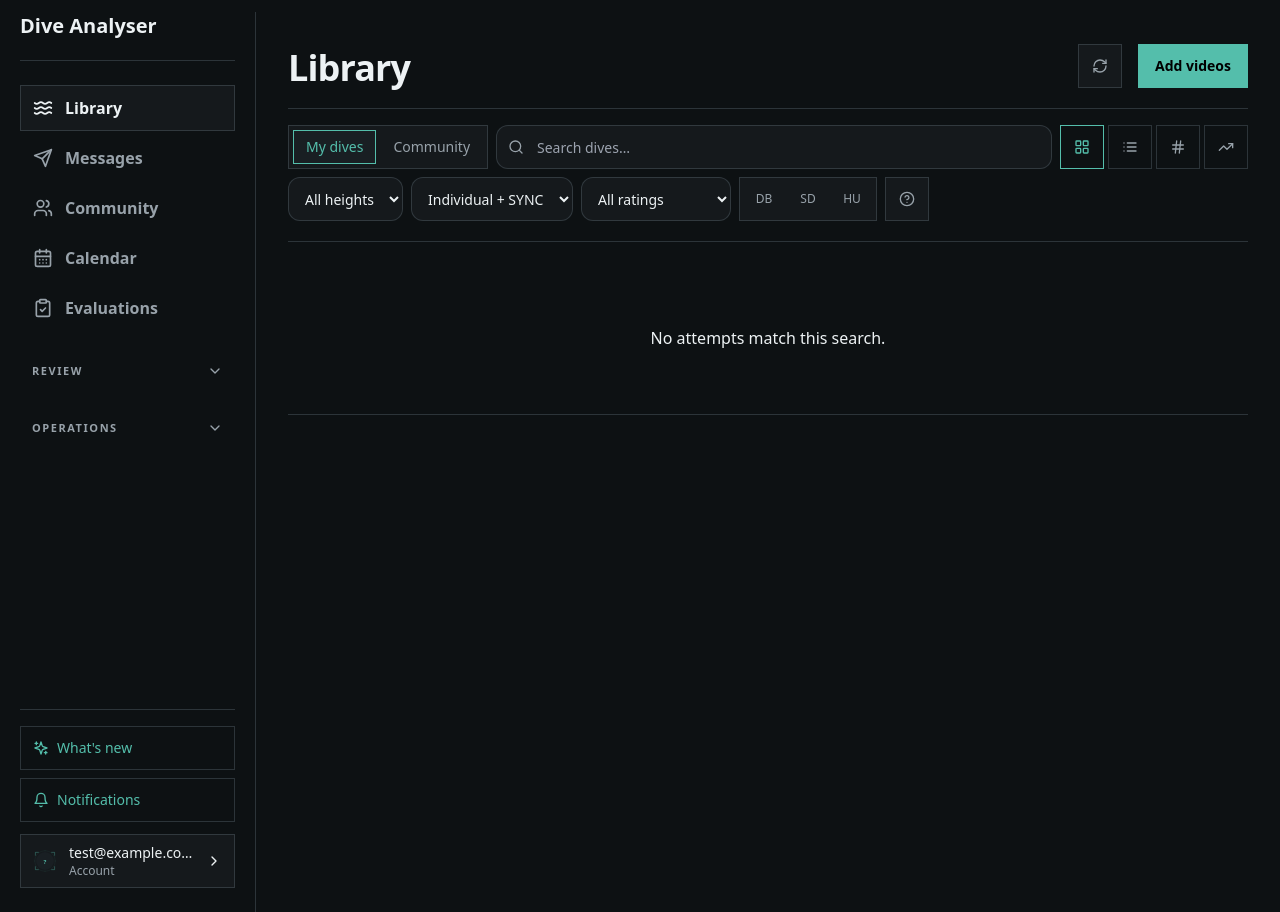
Scenario: minimal IA routing › admin review destinations are collapsed until explicitly opened
Expected: the heading "Library" is shown, [288,43,410,92]
Click the button "Review" at [128, 371], box [20,355,235,388]
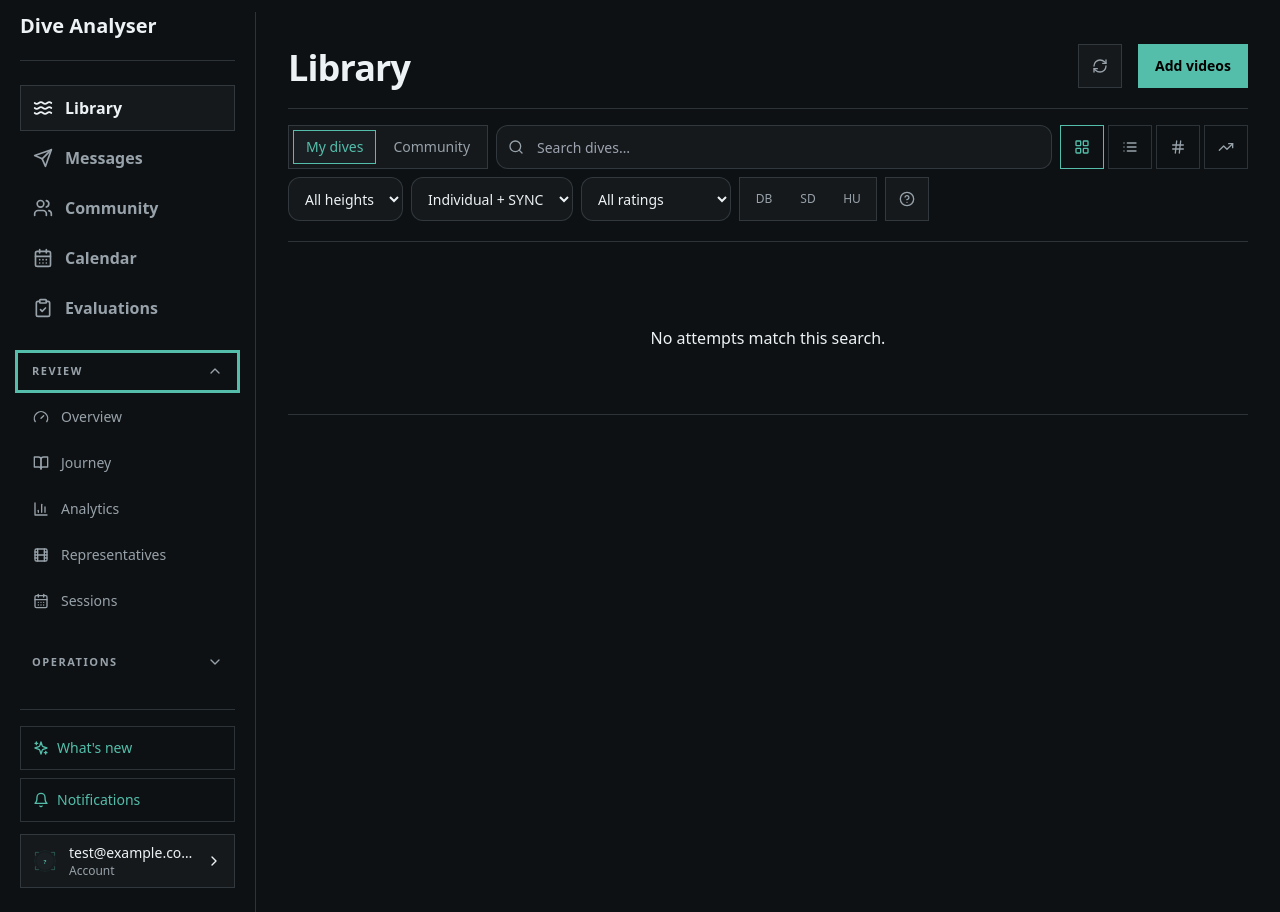
Result: the link "Overview" is shown at [33,406,122,426]
Result: the link "Journey" is shown at [33,452,111,472]
Result: the link "Analytics" is shown at [33,498,119,518]
Click the button "Review" at [128, 371], box [20,355,235,388]
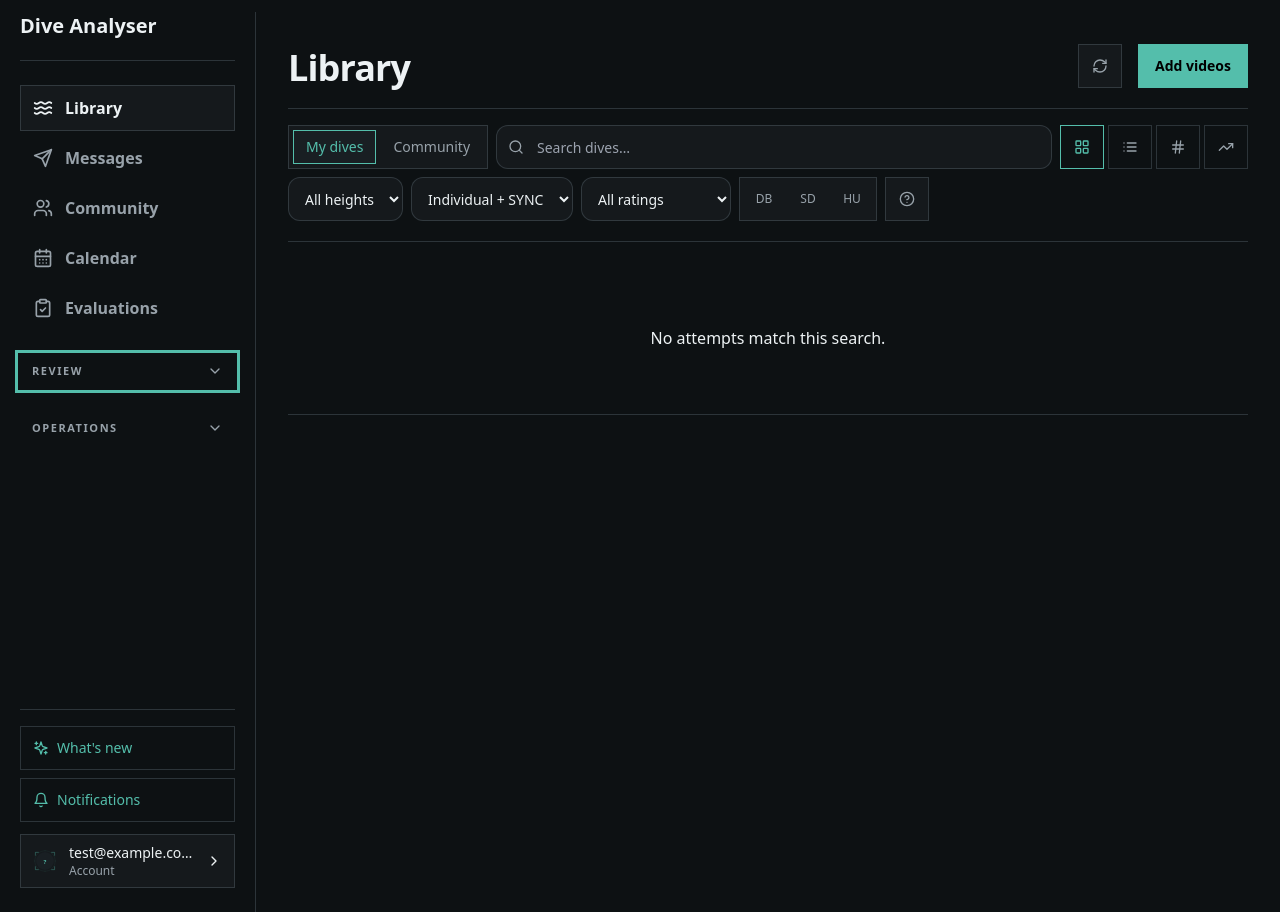
Result: the link "Overview" is gone
